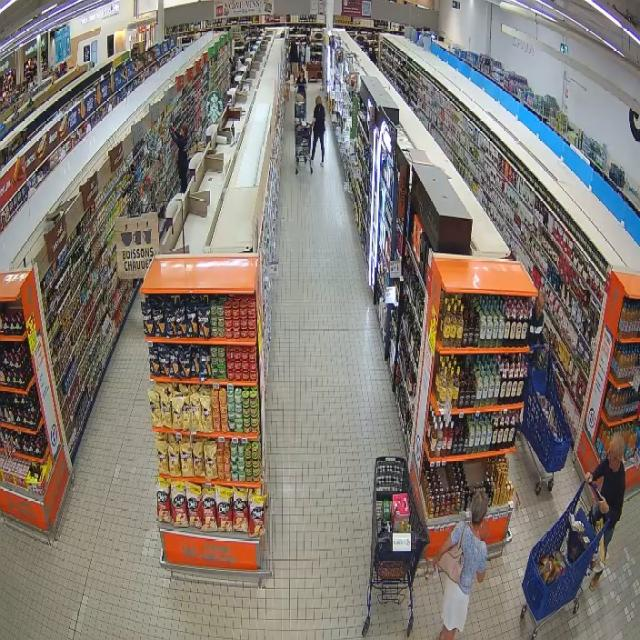bags: (439, 525, 466, 584)
hands: (599, 498, 609, 514), (585, 472, 592, 483)
person: (435, 489, 488, 639), (586, 434, 625, 554), (170, 125, 189, 193), (528, 289, 545, 346), (311, 96, 325, 165)
